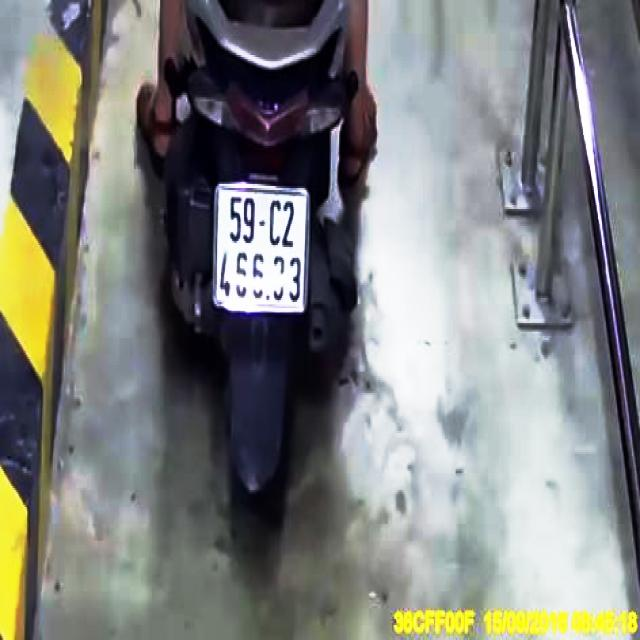license_plate: (217, 185, 311, 313)
